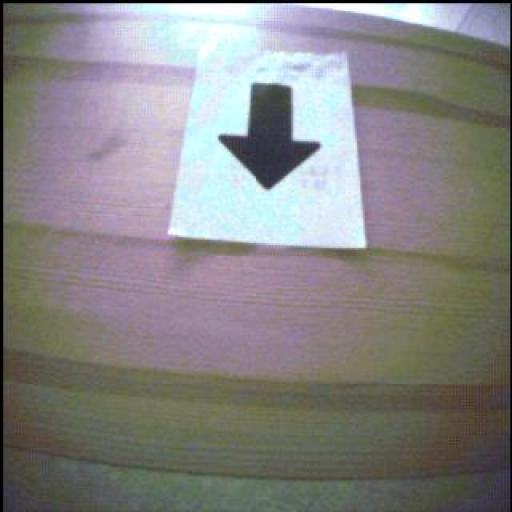arrow: (220, 84, 321, 190)
